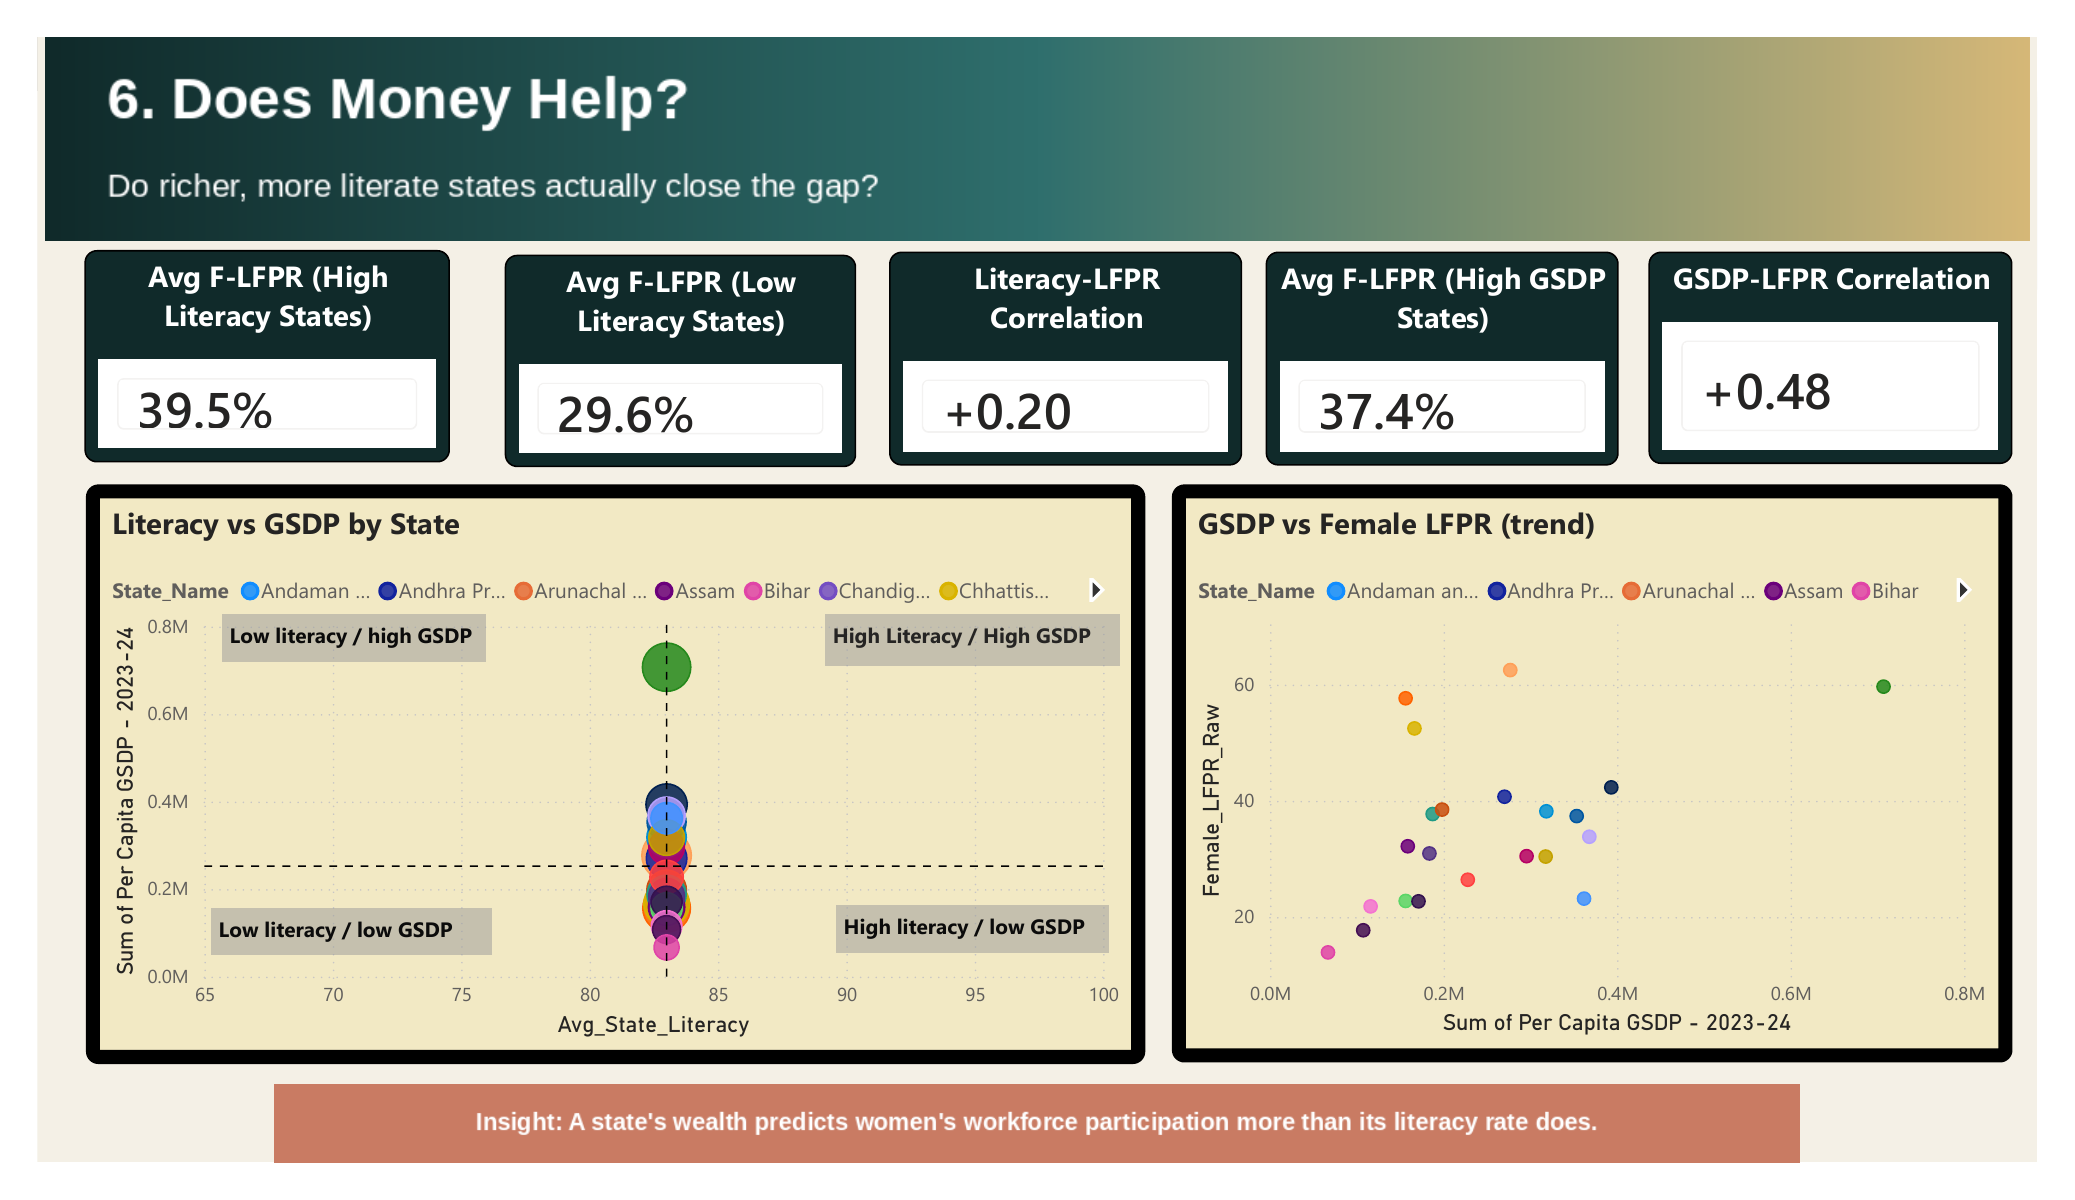

The page's visual inventory and layout, read from the dashboard file:
{"tool":"powerbi","page":{"name":"6. Does Money Help?","canvas":[1280,720],"ordinal":6},"visuals":[{"type":"image","box":[0,0,1280,130.3],"z":0},{"type":"cardVisual","title":"Avg F-LFPR (High Literacy States)","fields":{"Data":["_Measures.Female_LFPR_HighLiteracy_Display"]},"box":[29.6,136,234.2,136],"z":1000},{"type":"cardVisual","title":"Avg F-LFPR (Low Literacy States)","fields":{"Data":["_Measures.Female_LFPR_LowLiteracy_Display"]},"box":[298.9,138.7,225.6,136.3],"z":2000},{"type":"cardVisual","title":"Avg F-LFPR (High GSDP States)","fields":{"Data":["_Measures.Female_LFPR_HighGSDP_Display"]},"box":[786.2,137.3,225.6,136.3],"z":3000},{"type":"cardVisual","title":"Literacy-LFPR Correlation","fields":{"Data":["_Measures.Literacy_LFPR_Correlation_Display"]},"box":[545.2,137.3,225.6,136.3],"z":4000},{"type":"cardVisual","title":"GSDP-LFPR Correlation","fields":{"Data":["_Measures.GSDP_LFPR_Correlation_Display"]},"box":[1031.2,137.3,232.9,136],"z":5000},{"type":"scatterChart","title":"Literacy vs GSDP by State","fields":{"X":["_Measures.Avg_State_Literacy"],"Y":["Sum(GSDP_Income.Per Capita GSDP - 2023-24)"],"Size":["_Measures.Female_LFPR_Raw"],"Series":["State_Lookup.State_Name"]},"box":[30.8,286.3,678.3,370.6],"z":6000},{"type":"textbox","box":[504.3,369.2,188.5,32.3],"z":7000},{"type":"textbox","box":[117.7,369.2,169.6,31],"z":8000},{"type":"textbox","box":[111,556.5,180.4,31],"z":9000},{"type":"textbox","box":[511,555.2,175,31],"z":10000},{"type":"scatterChart","title":"GSDP vs Female LFPR (trend)","fields":{"X":["Sum(GSDP_Income.Per Capita GSDP - 2023-24)"],"Series":["State_Lookup.State_Name"],"Y":["_Measures.Female_LFPR_Raw"]},"box":[726.3,285.9,538.1,370.4],"z":11000},{"type":"image","box":[0,670.2,1280.3,49.5],"z":12000}]}

Visuals, with their boxes in screenshot pixels (x1, y1, x2, y2):
image: x1=43, y1=32, x2=2017, y2=233
"Avg F-LFPR (High Literacy States)" cardVisual: x1=89, y1=242, x2=450, y2=452
"Avg F-LFPR (Low Literacy States)" cardVisual: x1=504, y1=246, x2=852, y2=456
"Avg F-LFPR (High GSDP States)" cardVisual: x1=1256, y1=244, x2=1603, y2=454
"Literacy-LFPR Correlation" cardVisual: x1=884, y1=244, x2=1232, y2=454
"GSDP-LFPR Correlation" cardVisual: x1=1633, y1=244, x2=1992, y2=454
"Literacy vs GSDP by State" scatterChart: x1=91, y1=474, x2=1137, y2=1045
textbox: x1=821, y1=602, x2=1112, y2=652
textbox: x1=225, y1=602, x2=486, y2=650
textbox: x1=214, y1=891, x2=493, y2=938
textbox: x1=831, y1=889, x2=1101, y2=936
"GSDP vs Female LFPR (trend)" scatterChart: x1=1163, y1=473, x2=1993, y2=1044
image: x1=43, y1=1066, x2=2017, y2=1142
